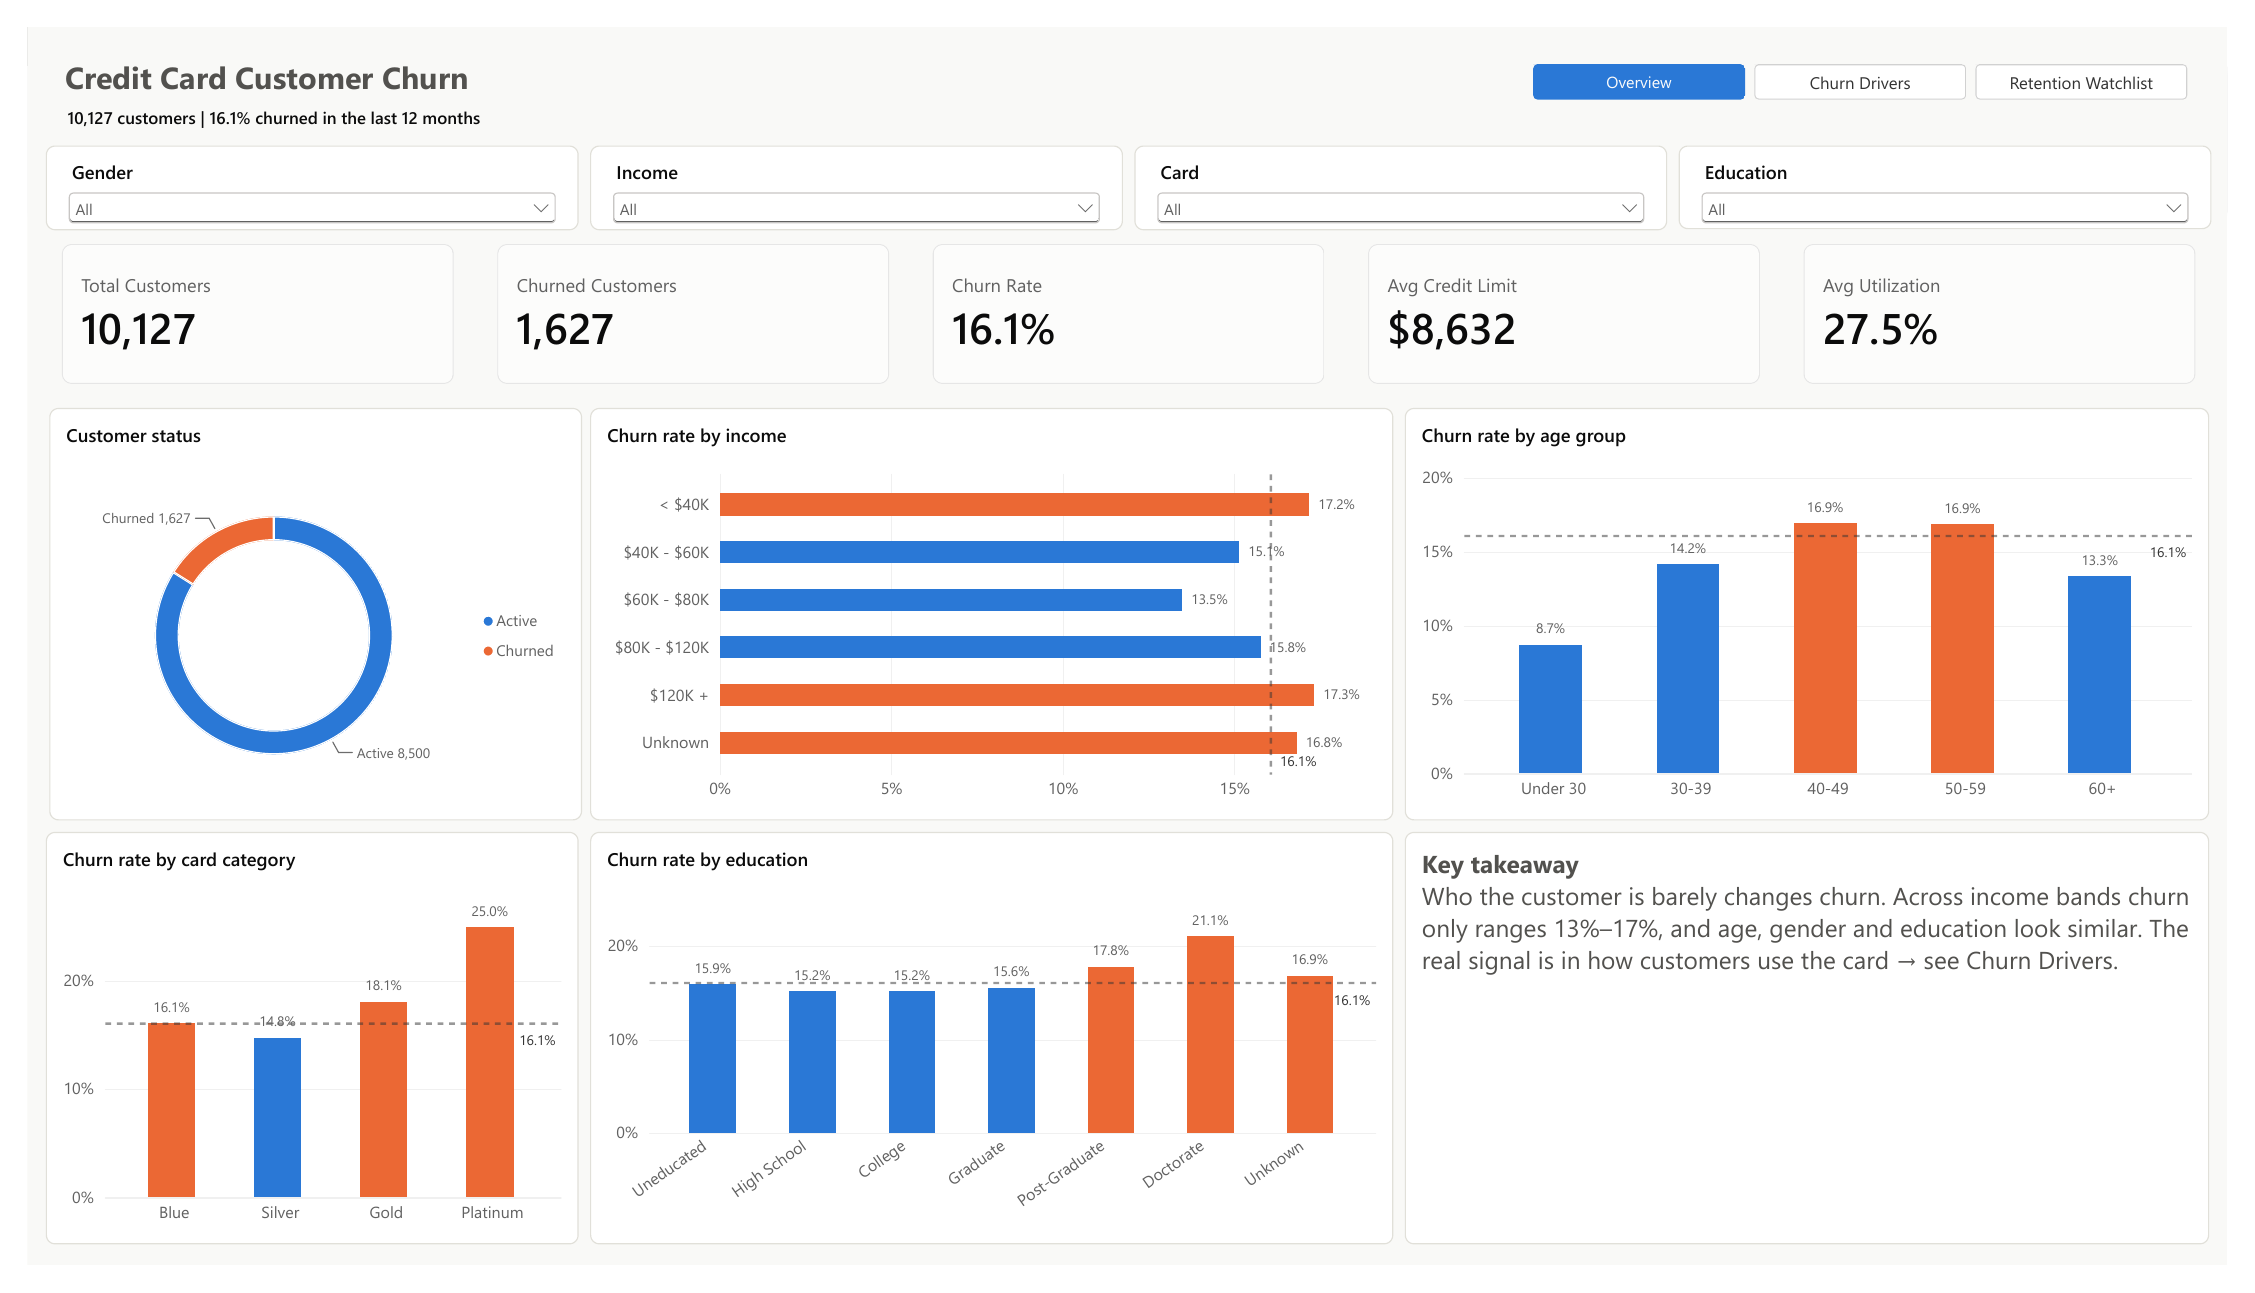

The page's visual inventory and layout, read from the dashboard file:
{"tool":"powerbi","page":{"name":"Overview","canvas":[1920,1080],"ordinal":0},"visuals":[{"type":"textbox","box":[18.6,13,390.4,66],"z":0},{"type":"cardVisual","fields":{"Data":["_Measures.Overview Subtitle"]},"box":[18.6,54.8,423.8,48.3],"z":1000},{"type":"slicer","fields":{"Values":["Customers.Gender"]},"box":[16,103.2,465,73.4],"z":2000},{"type":"slicer","fields":{"Values":["Customers.Income_Category"]},"box":[491,103.2,465,73.4],"z":3000},{"type":"slicer","fields":{"Values":["Customers.Card_Category"]},"box":[966,103.2,465,73.4],"z":4000},{"type":"slicer","fields":{"Values":["Customers.Education_Level"]},"box":[1441,103,465,73.4],"z":5000},{"type":"cardVisual","fields":{"Data":["_Measures.Total Customers"]},"box":[16,176.6,370,146.9],"z":6000},{"type":"cardVisual","fields":{"Data":["_Measures.Churned Customers"]},"box":[396,176.6,370,146.9],"z":7000},{"type":"cardVisual","fields":{"Data":["_Measures.Churn Rate"]},"box":[776,176.6,370,146.9],"z":8000},{"type":"cardVisual","fields":{"Data":["_Measures.Avg Credit Limit"]},"box":[1156,176.6,370,146.9],"z":9000},{"type":"cardVisual","fields":{"Data":["_Measures.Avg Utilization"]},"box":[1536,176.6,370,146.9],"z":10000},{"type":"donutChart","title":"Customer status","fields":{"Category":["Customers.Status"],"Y":["_Measures.Total Customers"]},"box":[18.6,332,465,360],"z":11000},{"type":"clusteredBarChart","title":"Churn rate by income","fields":{"Category":["Customers.Income_Category"],"Y":["_Measures.Churn Rate"]},"box":[491,331.8,701,360],"z":12000},{"type":"clusteredColumnChart","title":"Churn rate by age group","fields":{"Category":["Customers.Age Group"],"Y":["_Measures.Churn Rate"]},"box":[1202,331.8,702,360],"z":13000},{"type":"clusteredColumnChart","title":"Churn rate by card category","fields":{"Category":["Customers.Card_Category"],"Y":["_Measures.Churn Rate"]},"box":[16,702,465,360],"z":14000},{"type":"clusteredColumnChart","title":"Churn rate by education","fields":{"Category":["Customers.Education_Level"],"Y":["_Measures.Churn Rate"]},"box":[491,701.7,701,360],"z":15000},{"type":"textbox","box":[1202,701.7,702,360.6],"z":16000},{"type":"pageNavigator","box":[1300,20,600,55],"z":17000}]}

Visuals, with their boxes in screenshot pixels (x1, y1, x2, y2), scaled from the page's 1920x1080 canvas onto the 2255x1293 screenshot:
textbox: l=22, t=16, r=480, b=95
cardVisual - _Measures.Overview Subtitle: l=22, t=66, r=520, b=123
slicer - Customers.Gender: l=19, t=124, r=565, b=211
slicer - Customers.Income_Category: l=577, t=124, r=1123, b=211
slicer - Customers.Card_Category: l=1135, t=124, r=1681, b=211
slicer - Customers.Education_Level: l=1692, t=123, r=2239, b=211
cardVisual - _Measures.Total Customers: l=19, t=211, r=453, b=387
cardVisual - _Measures.Churned Customers: l=465, t=211, r=900, b=387
cardVisual - _Measures.Churn Rate: l=911, t=211, r=1346, b=387
cardVisual - _Measures.Avg Credit Limit: l=1358, t=211, r=1792, b=387
cardVisual - _Measures.Avg Utilization: l=1804, t=211, r=2239, b=387
"Customer status" donutChart: l=22, t=397, r=568, b=828
"Churn rate by income" clusteredBarChart: l=577, t=397, r=1400, b=828
"Churn rate by age group" clusteredColumnChart: l=1412, t=397, r=2236, b=828
"Churn rate by card category" clusteredColumnChart: l=19, t=840, r=565, b=1271
"Churn rate by education" clusteredColumnChart: l=577, t=840, r=1400, b=1271
textbox: l=1412, t=840, r=2236, b=1272
pageNavigator: l=1527, t=24, r=2232, b=90
